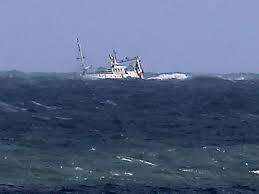Ship: (78, 37, 144, 81)
